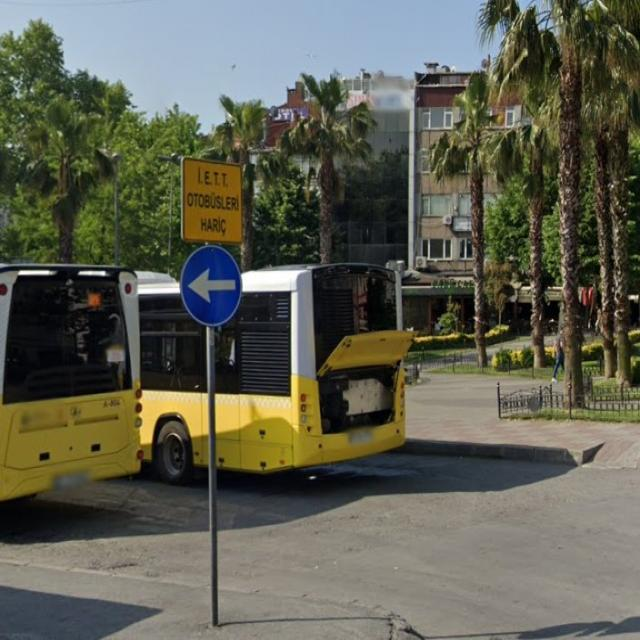Turn Left: (181, 243, 246, 332)
